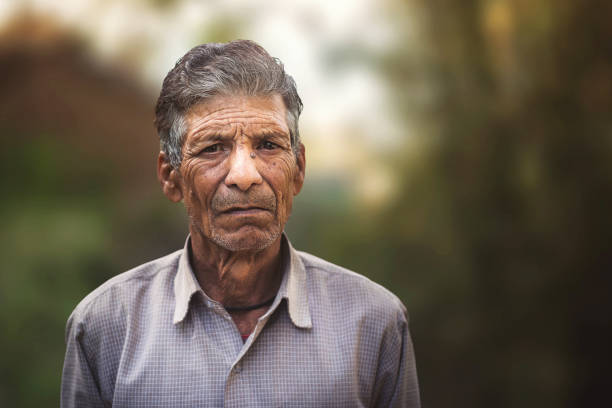Male: (69, 35, 411, 403)
